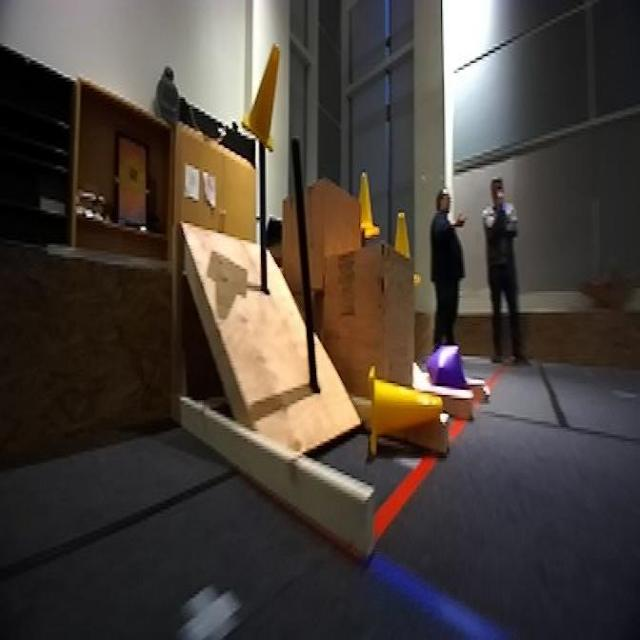frc_cone: (368, 369, 442, 451), (242, 37, 282, 150), (349, 168, 381, 244), (392, 206, 423, 283)
frc_cube: (428, 346, 468, 398)
